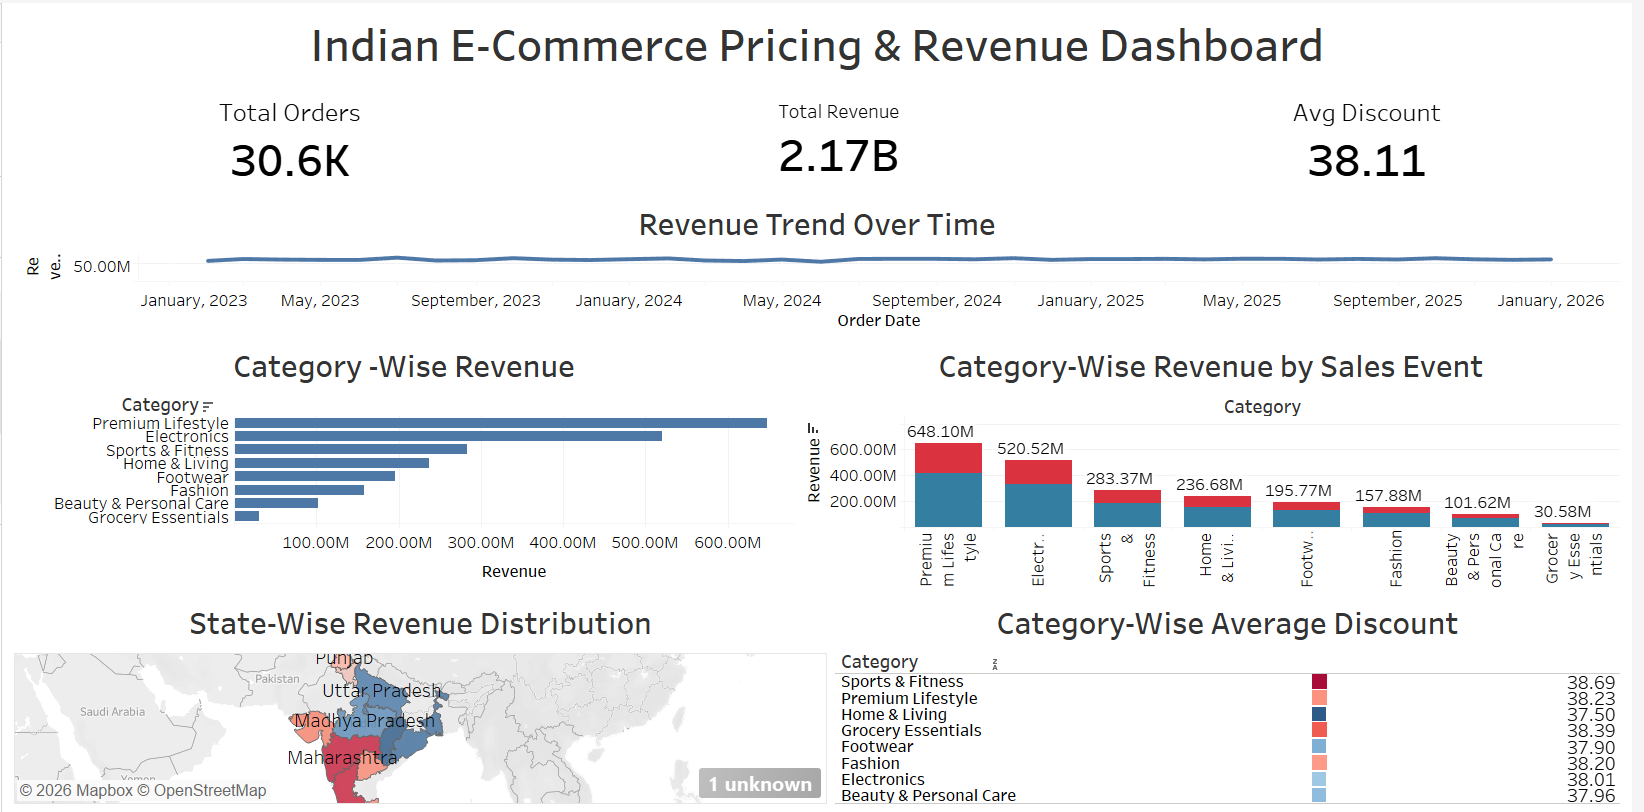

What the dashboard file says about the page in this screenshot:
{"tool":"tableau","page":{"name":"Dashboard 3","canvas":[1630,813],"ordinal":1},"visuals":[{"type":"title","box":[8,8,1614,63]},{"type":"worksheet","title":"Sheet 9","mark":"Automatic","box":[8,71,560,120]},{"type":"worksheet","title":"Sheet 8","mark":"Automatic","box":[568,71,539,120]},{"type":"worksheet","title":"Sheet 10","mark":"Automatic","box":[1107,71,515,120]},{"type":"worksheet","title":"Revenue Trend Over Time","mark":"Line","rows":["revenue"],"cols":["order_date"],"box":[8,191,1614,140]},{"type":"worksheet","title":"Category-Wise Revenue","mark":"Automatic","rows":["category"],"cols":["revenue"],"box":[8,331,796,258]},{"type":"worksheet","title":"Category-wise revenue by Sales Event","mark":"Automatic","rows":["revenue"],"cols":["category"],"box":[804,331,817.9,258]},{"type":"worksheet","title":"State-Wise  Revenue Distribution ","mark":"Multipolygon","box":[8,589,821,216]},{"type":"worksheet","title":"Category-Wise Average Discount","mark":"Square","rows":["category"],"box":[829,589,793,216]}]}

Visuals, with their boxes in screenshot pixels (x1, y1, x2, y2), scaled from the page's 1630x813 canvas onto the 1644x812 screenshot:
title: region(8, 8, 1636, 71)
"Sheet 9" worksheet: region(8, 71, 573, 191)
"Sheet 8" worksheet: region(573, 71, 1117, 191)
"Sheet 10" worksheet: region(1117, 71, 1636, 191)
"Revenue Trend Over Time" worksheet (Line marks): region(8, 191, 1636, 331)
"Category-Wise Revenue" worksheet: region(8, 331, 811, 588)
"Category-wise revenue by Sales Event" worksheet: region(811, 331, 1636, 588)
"State-Wise  Revenue Distribution " worksheet (Multipolygon marks): region(8, 588, 836, 804)
"Category-Wise Average Discount" worksheet (Square marks): region(836, 588, 1636, 804)
